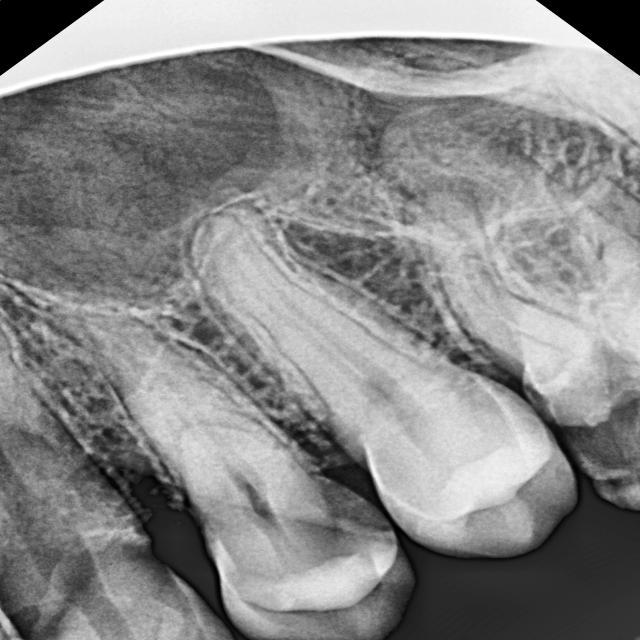Normal: (132, 177, 610, 587)
